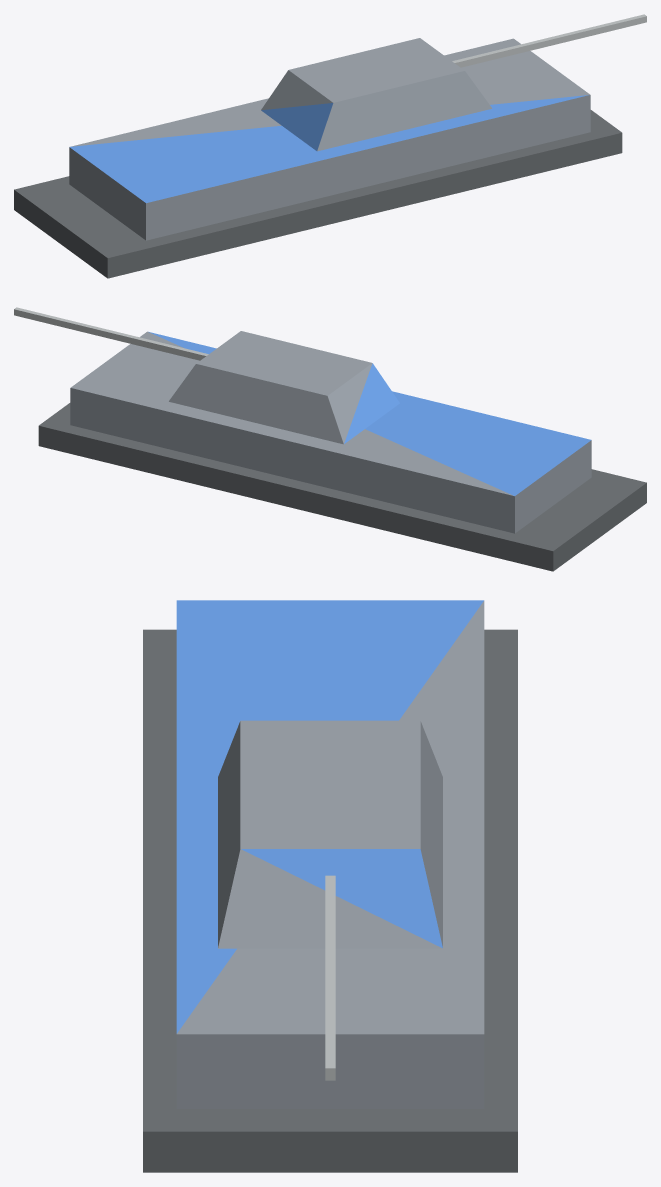
File: veyran_gunboat.glb
3 renders of one model, top to bottom at view 1: azimuth 30°, elevation 25°; view 2: azimuth 150°, elevation 25°; view 3: azimuth 270°, elevation 25°, orthographic. The views are drawn at different scales.
Visible parts, largest first — view 1: hull, turret, barrel; view 2: hull, turret, barrel; view 3: hull, turret, barrel.
Part boxes in pixels (left/top/right/bottom): hull: left=14, top=38, right=622, bottom=278; turret: left=261, top=38, right=491, bottom=151; barrel: left=452, top=14, right=646, bottom=67; hull: left=38, top=331, right=646, bottom=571; turret: left=169, top=331, right=399, bottom=444; barrel: left=14, top=307, right=208, bottom=360; hull: left=143, top=600, right=517, bottom=1172; turret: left=218, top=720, right=442, bottom=948; barrel: left=325, top=875, right=335, bottom=1080.
Size of the model in its own units: 18 by 2.85 by 5.
